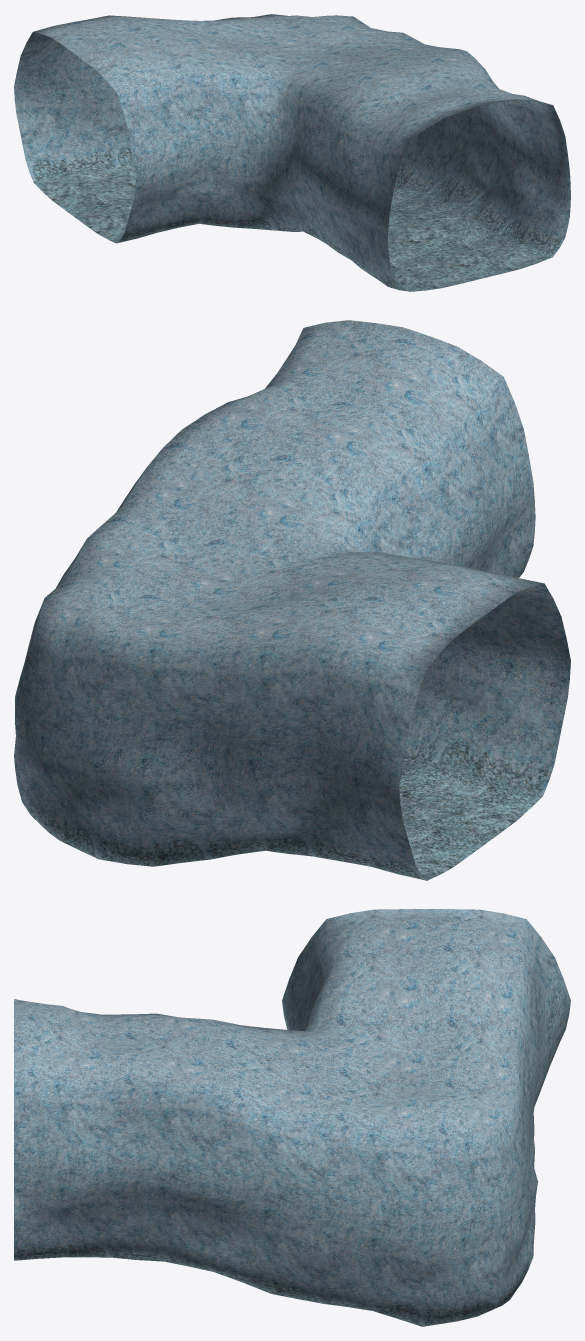
The model's file is thm_all_cave_flatland_s03_ice_r26_r26.fbx.
The picture shows the model from 3 angles, top to bottom: view 1: azimuth 30°, elevation 25°; view 2: azimuth 150°, elevation 25°; view 3: azimuth 270°, elevation 25°; orthographic projection. The views are drawn at different scales.
Parts seen in each view (by area): view 1: mesh_node; view 2: mesh_node; view 3: mesh_node.
Part boxes in pixels (x1,y1,x2,y2): mesh_node: (14,14,570,291); mesh_node: (14,320,570,880); mesh_node: (14,909,570,1326).
Size of the model in its own units: 33.83 by 22.2 by 41.86.
